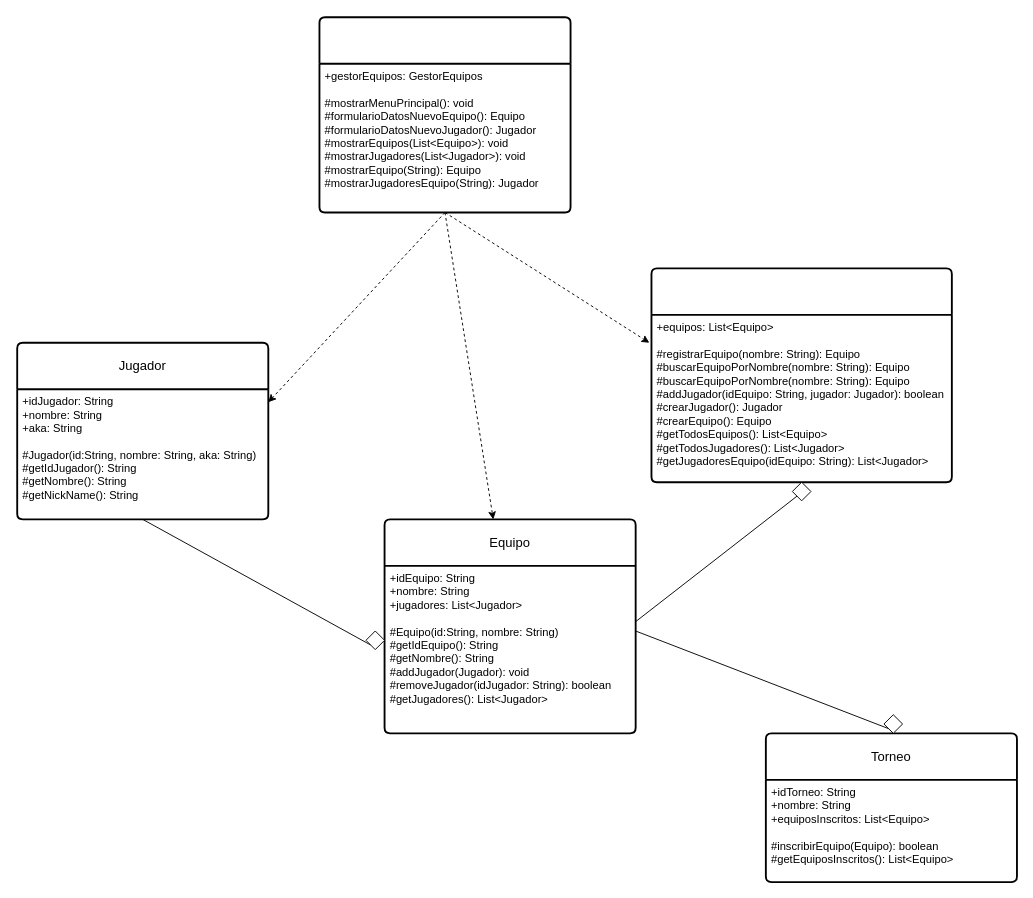
Image size: 1033x898. Some labels were removed from this diagram. The box of each missing label's shape, as (x1, y1, x2, y2) in pixels:
GestorEquipos: (650, 267, 952, 483)
Interfaz: (318, 16, 571, 213)
